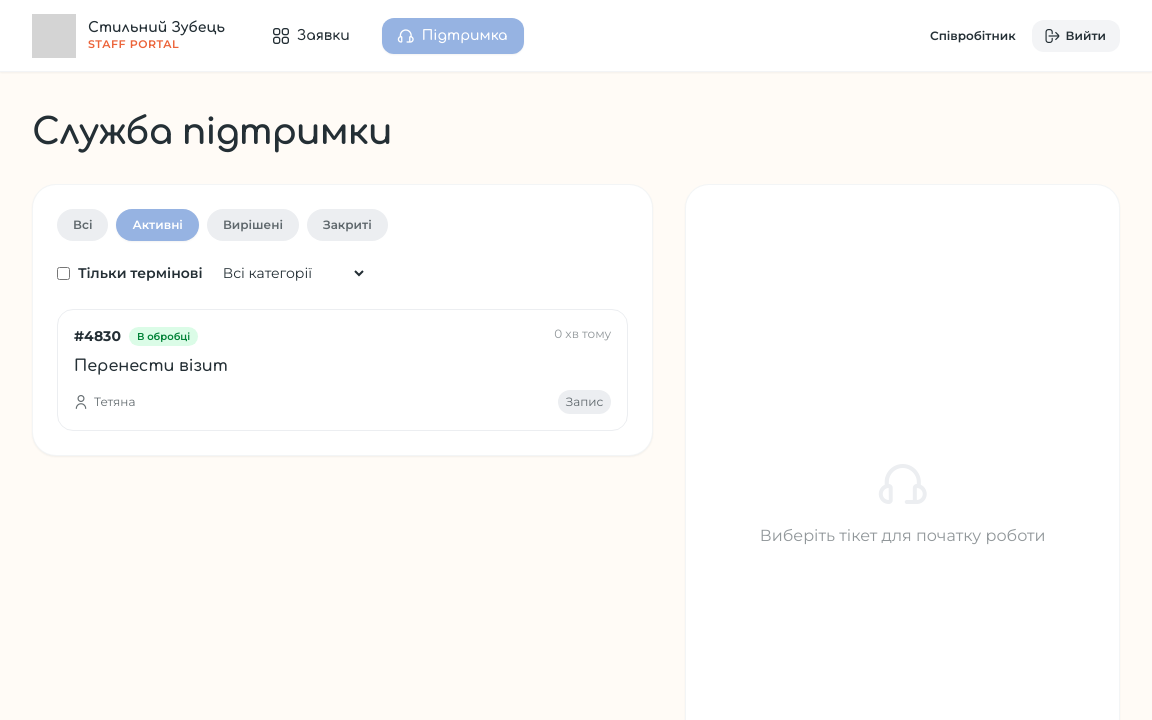
Scenario: AdminSupportPage › filters tickets by tab selection
The image size is (1152, 720).
Expected: the text "#4830" is shown, [74,326,121,346]
Click the tab "Вирішені" at [253, 225], box [207,209,299,241]
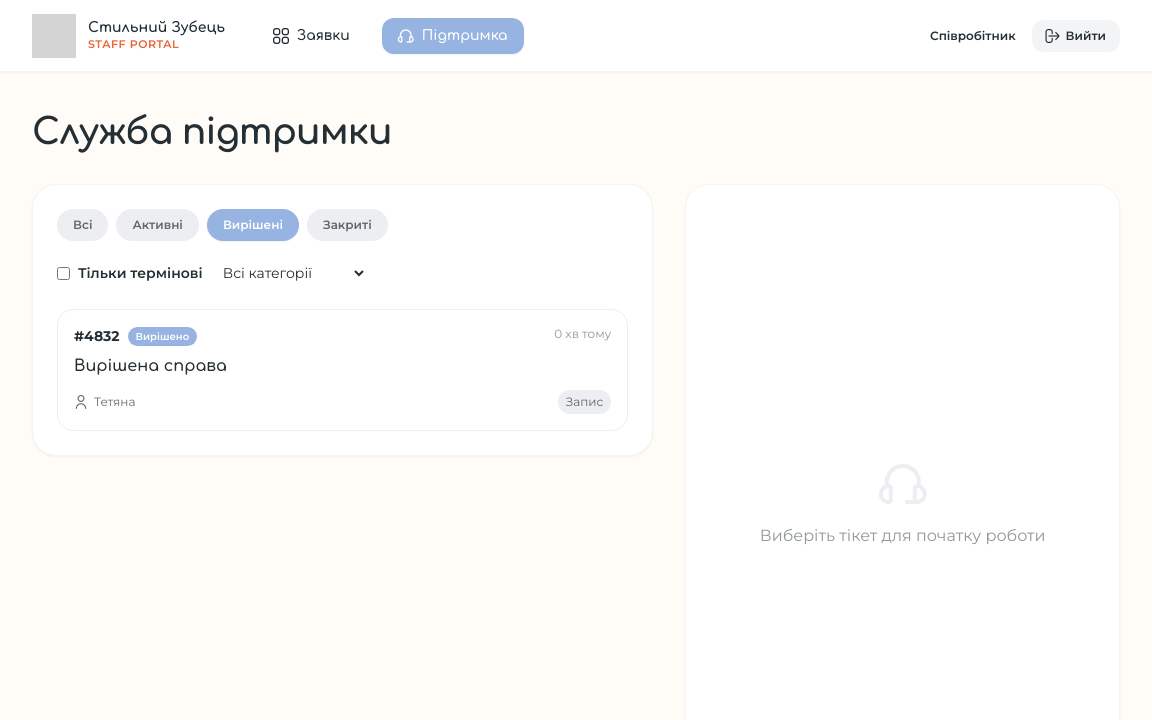
Expected: the text "#4832" is shown, [74,326,120,346]
Expected: the text "#4830" is gone
